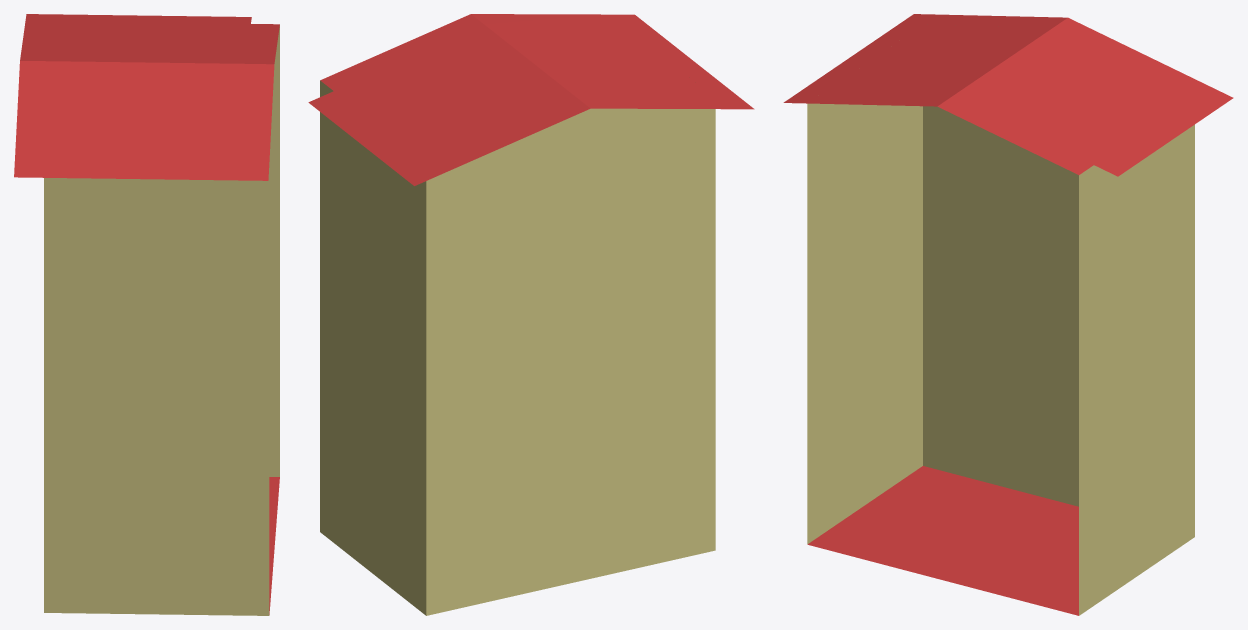
3 renders of one model, left to right at view 1: azimuth 30°, elevation 25°; view 2: azimuth 150°, elevation 25°; view 3: azimuth 270°, elevation 25°, orthographic. The views are drawn at different scales.
Size of the model in its own units: 6.96 by 7.96 by 9.21.
